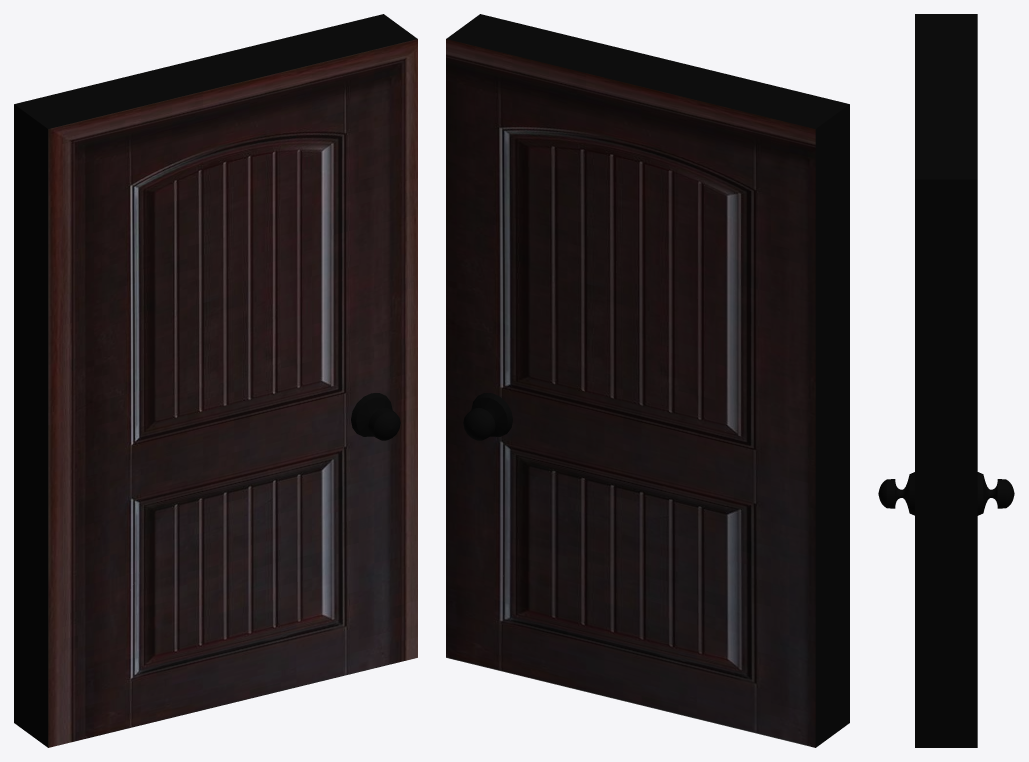
Rendered from Door.fbx.
3 renders of one model, left to right at view 1: azimuth 30°, elevation 25°; view 2: azimuth 150°, elevation 25°; view 3: azimuth 270°, elevation 25°, orthographic. The views are drawn at different scales.
Visible parts, largest first — view 1: Box001, Line001; view 2: Box001, Line002; view 3: Box001, Line002, Line001.
Part boxes in pixels (x1,y1,x2,y2): Box001: [14, 14, 417, 747]; Line001: [351, 393, 400, 440]; Box001: [446, 14, 849, 747]; Line002: [463, 393, 512, 440]; Box001: [915, 14, 977, 747]; Line002: [977, 472, 1014, 515]; Line001: [878, 472, 914, 515].
Size of the model in its own units: 75 by 120 by 26.04.
Materials: 2 (1 with a texture image).
